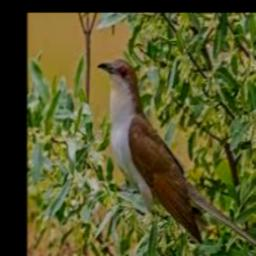Cuckoo: (96, 58, 256, 256)
